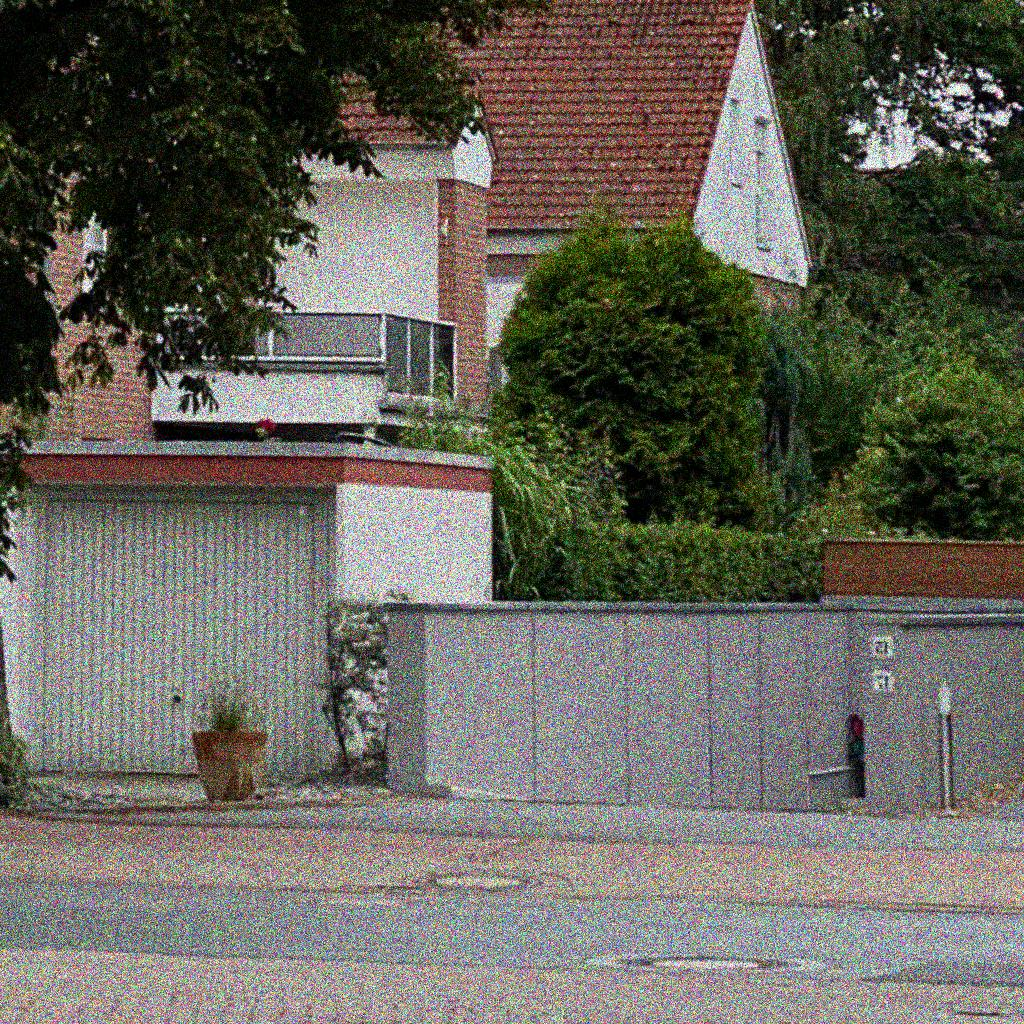tree: (1, 1, 557, 815), (753, 1, 1024, 333)
